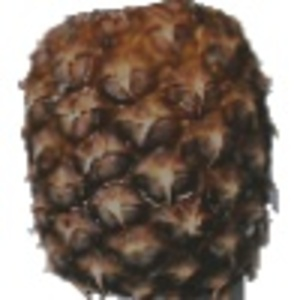abacaxi: (16, 3, 280, 296)
